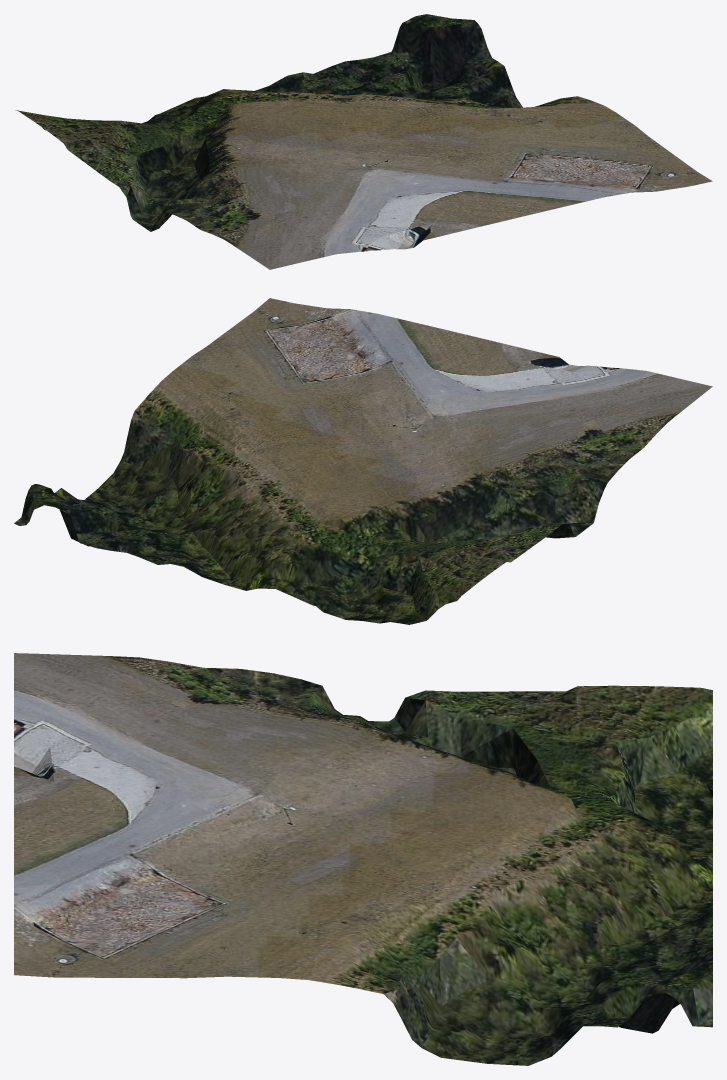
Rendered from map_15_8180_13779.dae.
3 renders of one model, top to bottom at view 1: azimuth 30°, elevation 25°; view 2: azimuth 150°, elevation 25°; view 3: azimuth 270°, elevation 25°, orthographic. The views are drawn at different scales.
Visible parts, largest first — view 1: Ter0; view 2: Ter0; view 3: Ter0.
Part boxes in pixels (x1=…): Ter0: x1=15, y1=14, x2=712, y2=269; Ter0: x1=14, y1=298, x2=712, y2=624; Ter0: x1=14, y1=653, x2=712, y2=1065.
Size of the model in its own units: 63.88 by 63.88 by 12.23.
2 materials, 2 textured.
